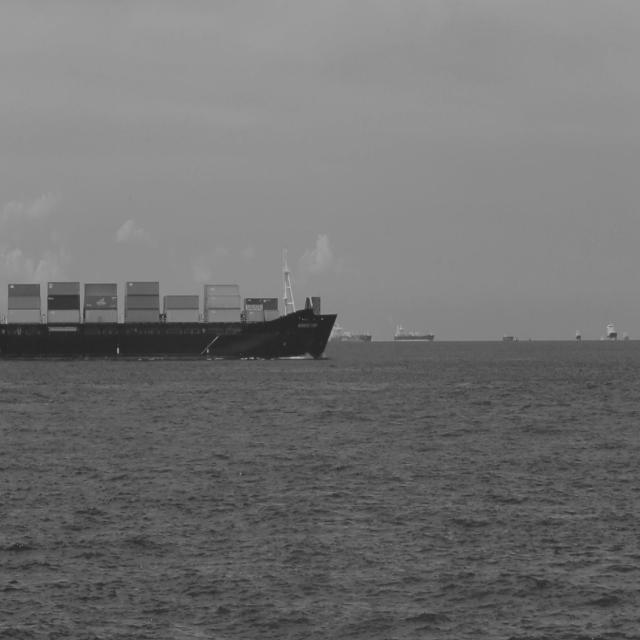ship: (0, 248, 338, 362), (394, 316, 438, 342), (331, 318, 378, 342)
